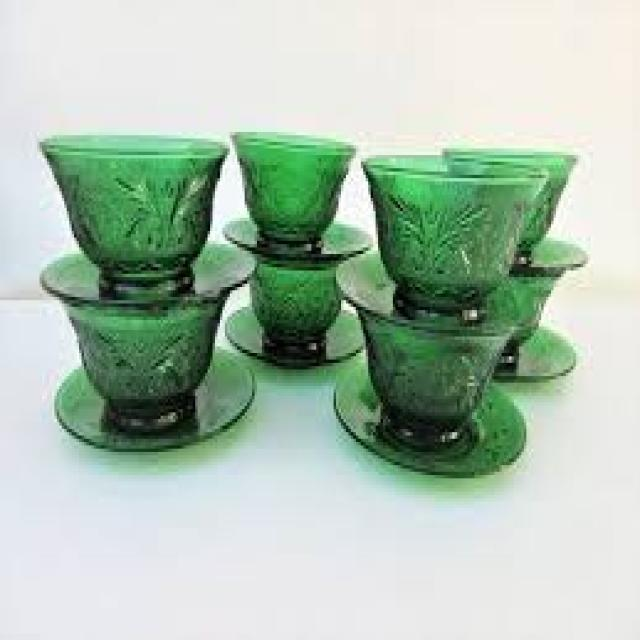glass: (356, 149, 544, 314), (37, 132, 225, 284), (331, 356, 524, 475), (358, 307, 509, 452), (59, 297, 230, 422), (52, 346, 252, 452), (334, 241, 534, 333), (440, 145, 576, 251), (230, 129, 353, 244), (40, 248, 252, 294), (247, 254, 339, 350), (222, 300, 361, 363), (223, 215, 373, 258), (487, 320, 573, 383), (489, 234, 583, 274)
